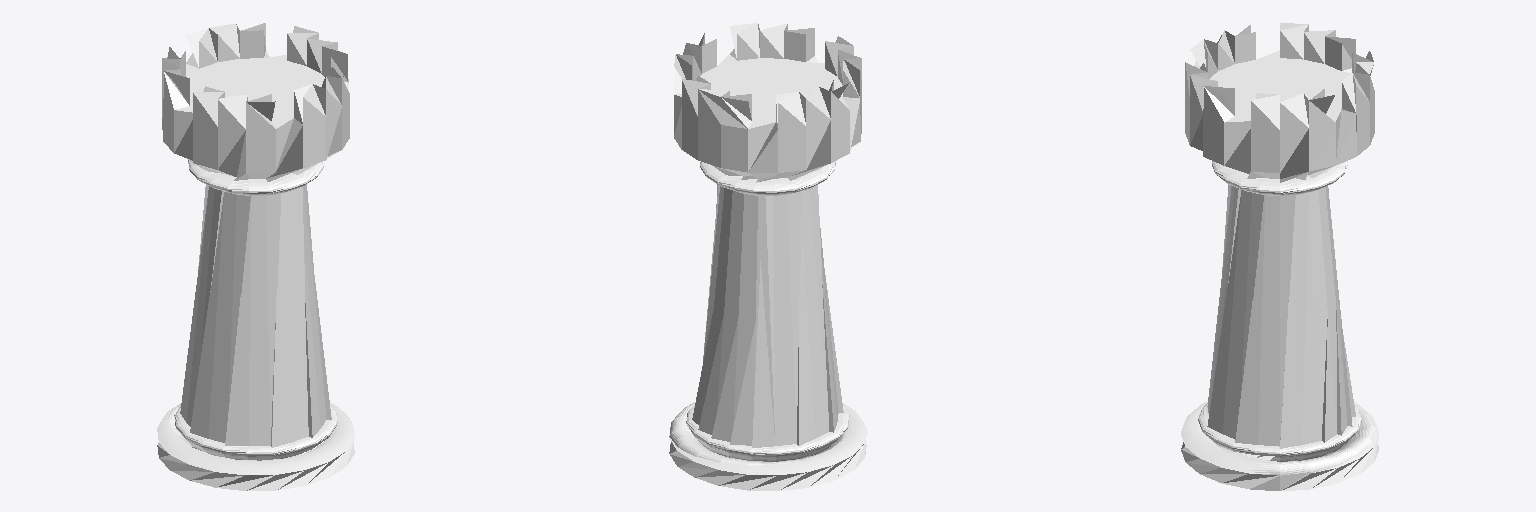
The model's file is whiteRook.obj.
3 renders of one model, left to right at view 1: azimuth 30°, elevation 25°; view 2: azimuth 150°, elevation 25°; view 3: azimuth 270°, elevation 25°, orthographic.
Parts seen in each view (by area): view 1: Curve_021; view 2: Curve_021; view 3: Curve_021.
Part boxes in pixels (bbox=[...]): Curve_021: bbox=[157, 23, 354, 490]; Curve_021: bbox=[669, 23, 866, 490]; Curve_021: bbox=[1181, 23, 1378, 490].
Size of the model in its own units: 0.0126 by 0.0271 by 0.0126.